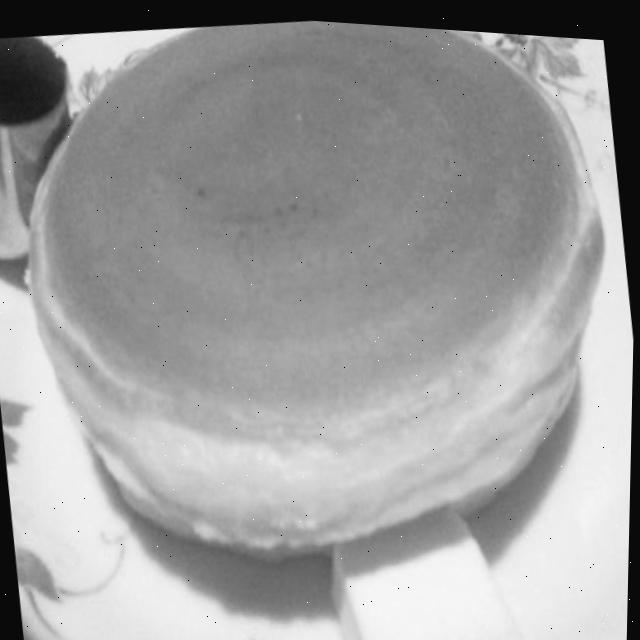蔬菜料理: (0, 11, 248, 386)
